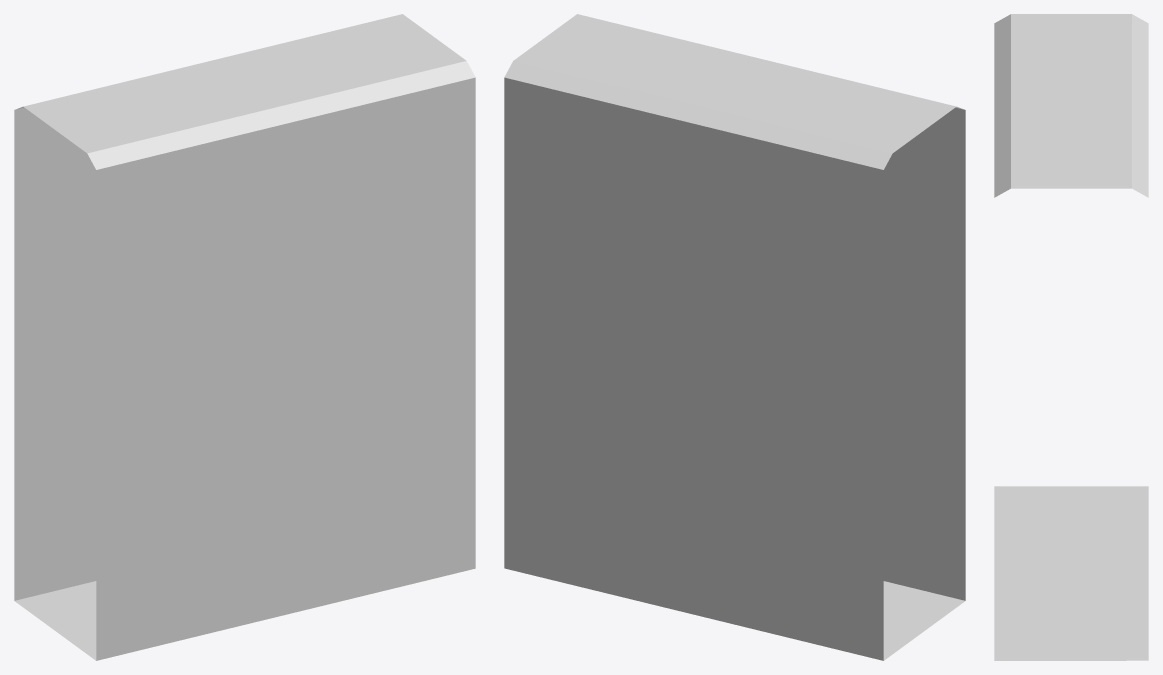
Rendered from Itr_Couch_Outside_Back_Middle_06.FBX.
3 views of the same model, side by side, from view 1: azimuth 30°, elevation 25°; view 2: azimuth 150°, elevation 25°; view 3: azimuth 270°, elevation 25° (orthographic). The views are drawn at different scales.
Visible parts, largest first — view 1: Itr_Couch_Outside_Back_Middle_06; view 2: Itr_Couch_Outside_Back_Middle_06; view 3: Itr_Couch_Outside_Back_Middle_06.
Part boxes in pixels (x1=…): Itr_Couch_Outside_Back_Middle_06: x1=14, y1=14, x2=475, y2=660; Itr_Couch_Outside_Back_Middle_06: x1=504, y1=14, x2=965, y2=660; Itr_Couch_Outside_Back_Middle_06: x1=994, y1=14, x2=1148, y2=660.
Size of the model in its own units: 19.21 by 24.25 by 7.19.
